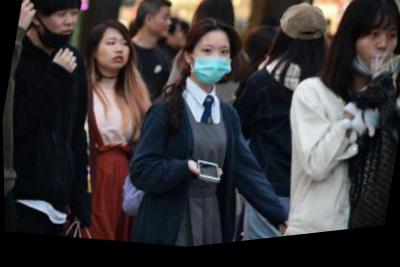NONE: (98, 33, 134, 76), (152, 10, 174, 43)
OK: (189, 40, 235, 95)
WRONG: (349, 26, 400, 89), (38, 1, 80, 52)
